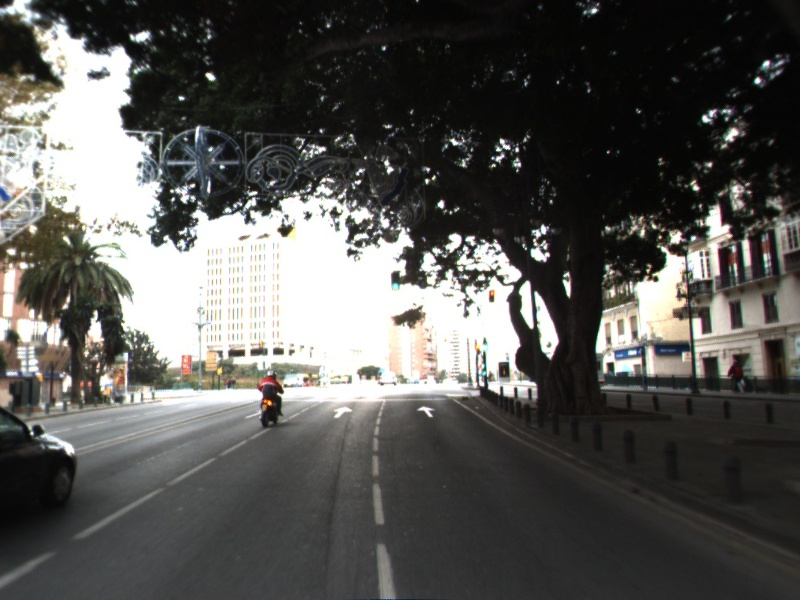STRAIGHT: (414, 403, 438, 419), (331, 404, 355, 420)
